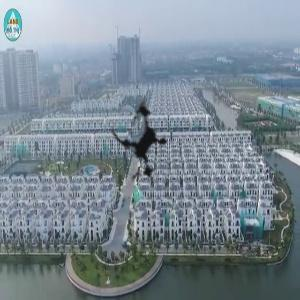drone: (73, 72, 217, 216)
